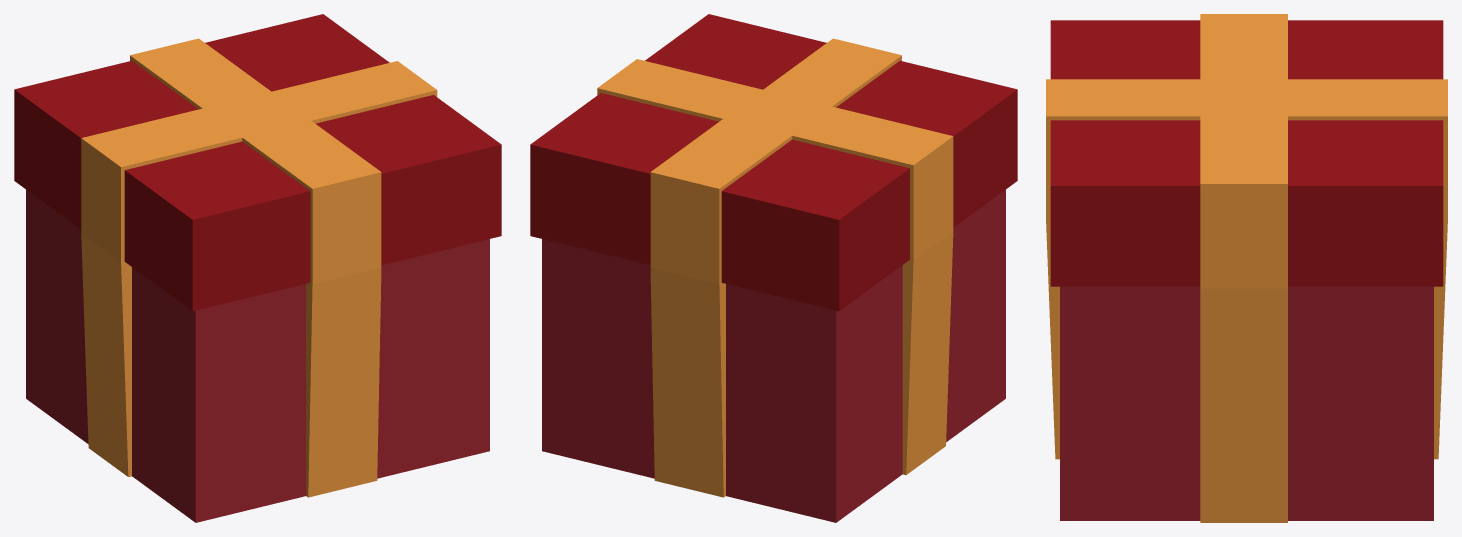
File: present.glb
3 views of the same model, side by side, from view 1: azimuth 30°, elevation 25°; view 2: azimuth 150°, elevation 25°; view 3: azimuth 270°, elevation 25° (orthographic). The views are drawn at different scales.
Parts seen in each view (by area): view 1: Cube; view 2: Cube; view 3: Cube.
Part boxes in pixels (left/top/right/bottom): Cube: left=14, top=14, right=501, bottom=522; Cube: left=530, top=14, right=1017, bottom=522; Cube: left=1046, top=14, right=1447, bottom=522.
Bounding box in the file's own units: 0.9675 × 0.9112 × 0.9675.
Materials: 1 (1 with a texture image).
